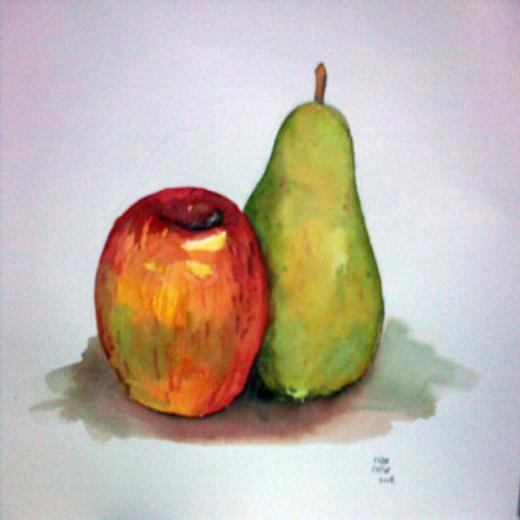Apple: (93, 186, 270, 418)
